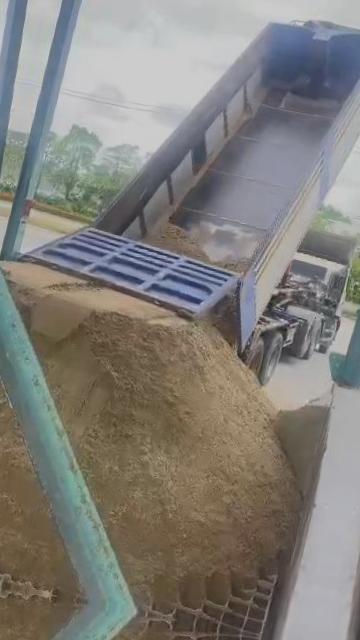sand: (7, 264, 300, 598), (0, 348, 73, 587), (274, 396, 329, 502), (144, 223, 247, 273), (210, 294, 238, 347)
